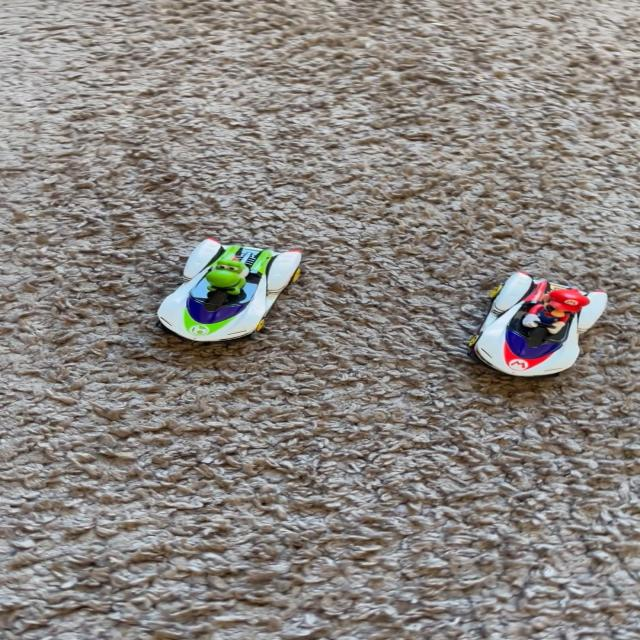mario: (462, 273, 622, 386)
yoshi: (148, 232, 317, 349)
